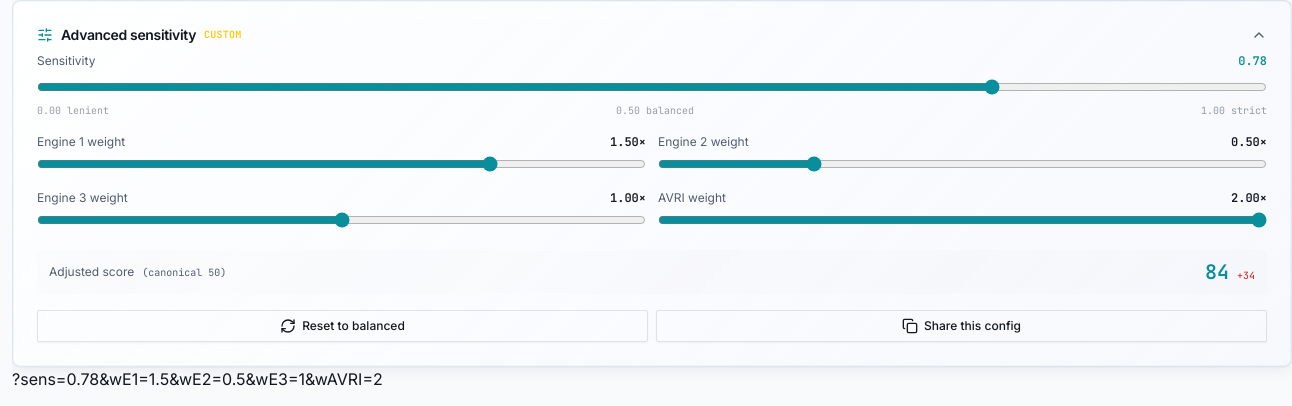
AdvancedSensitivityPanel › Reset to balanced clears every URL param and disables the button
expect the text with test id "location-search" shows "sens=0.78": met, box [12,369,383,389]
Click the button with test id "advanced-sensitivity-reset": click(342, 326) [37,310,648,342]
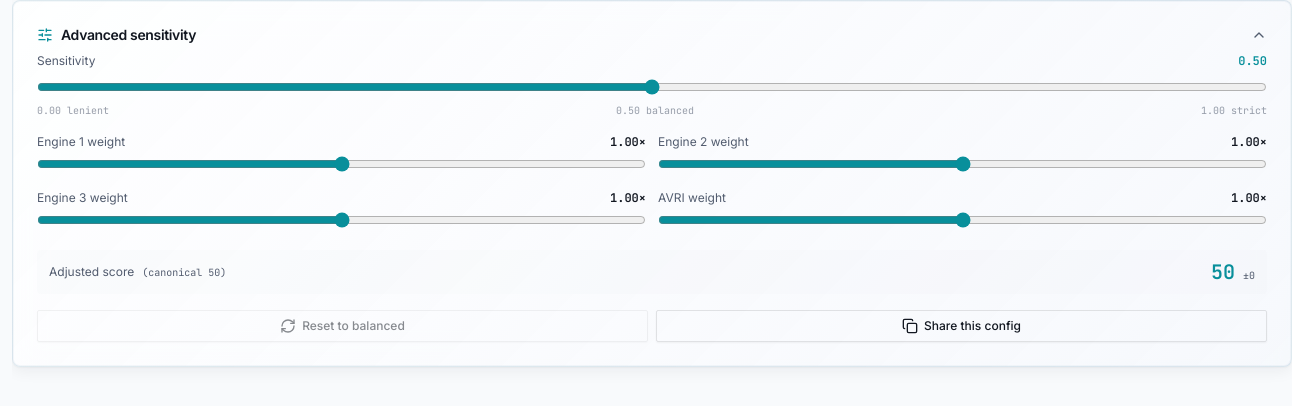
expect the button with test id "advanced-sensitivity-reset" is disabled: met, box [37,310,648,342]
expect the text with test id "sensitivity-value" reads "0.50": met, box [1238,53,1267,69]
